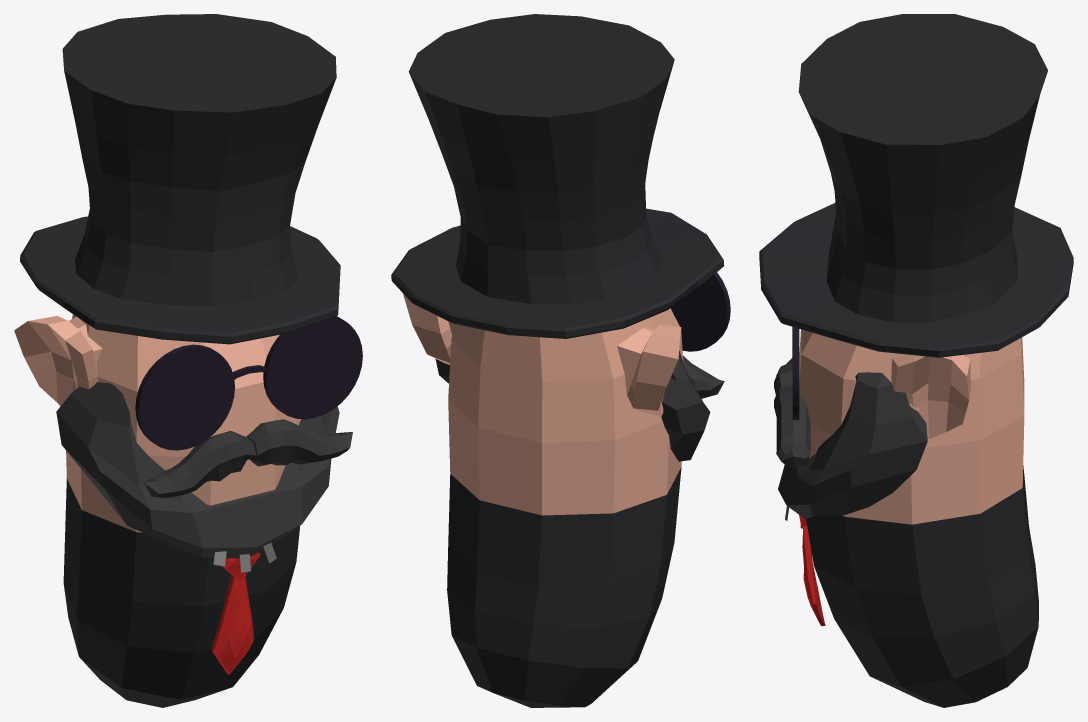
Rendered from tolomeoBean.fbx.
3 views of the same model, side by side, from view 1: azimuth 30°, elevation 25°; view 2: azimuth 150°, elevation 25°; view 3: azimuth 270°, elevation 25° (orthographic). The views are drawn at different scales.
Visible parts, largest first — view 1: hat_mesh, body_mesh, beard_mesh, glass_mesh, moustache_mesh, ears_mesh, tie_mesh; view 2: hat_mesh, body_mesh, ears_mesh, beard_mesh, glass_mesh, moustache_mesh; view 3: hat_mesh, body_mesh, beard_mesh, ears_mesh, moustache_mesh, tie_mesh, glass_mesh.
Part boxes in pixels (<box>): hat_mesh: <box>20,14,340,344</box>; body_mesh: <box>63,314,300,707</box>; beard_mesh: <box>56,382,339,558</box>; glass_mesh: <box>135,316,362,450</box>; moustache_mesh: <box>144,419,352,498</box>; ears_mesh: <box>14,316,102,406</box>; tie_mesh: <box>211,552,260,674</box>; hat_mesh: <box>391,14,724,338</box>; body_mesh: <box>447,308,683,707</box>; ears_mesh: <box>403,293,681,416</box>; beard_mesh: <box>435,350,710,461</box>; glass_mesh: <box>670,272,730,351</box>; moustache_mesh: <box>683,355,724,398</box>; hat_mesh: <box>759,14,1073,357</box>; body_mesh: <box>799,329,1038,707</box>; beard_mesh: <box>778,372,927,518</box>; ears_mesh: <box>891,354,970,439</box>; moustache_mesh: <box>774,358,810,467</box>; tie_mesh: <box>799,515,825,626</box>; glass_mesh: <box>792,327,799,419</box>.
Bounding box in the file's own units: 2.83 × 6 × 2.7.
2 materials, 1 textured.
